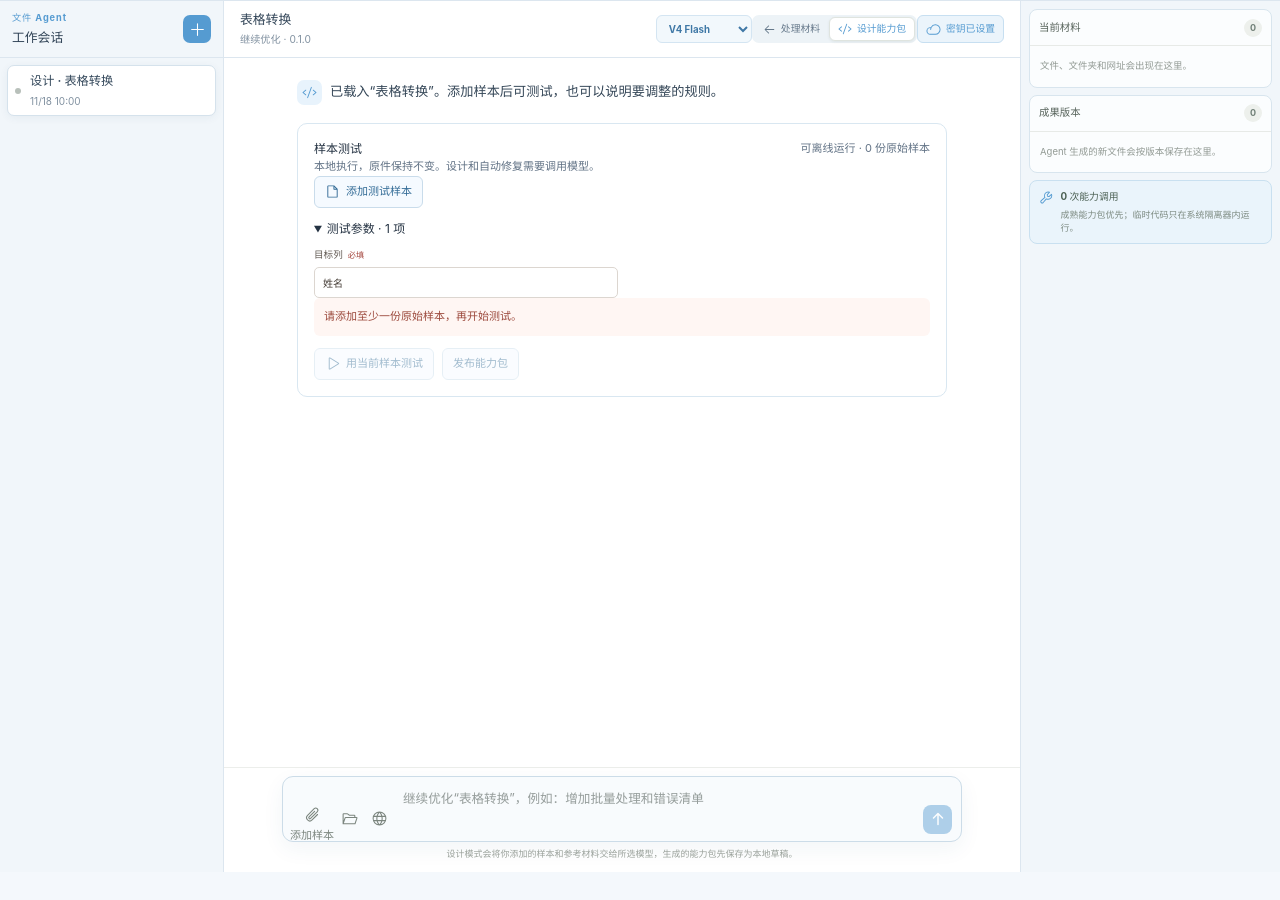
Scenario: design session lifecycle › tests current originals after design and preserves the passed result without saving again
The width and height of the screenshot is (1280, 900).
Expected: the element named "能力包样本测试" is shown, [297, 123, 947, 397]
Expected: the button named "新建设计会话" is enabled, [183, 15, 211, 43]
Click the button titled "添加文件" at (312, 818), box [290, 806, 334, 832]
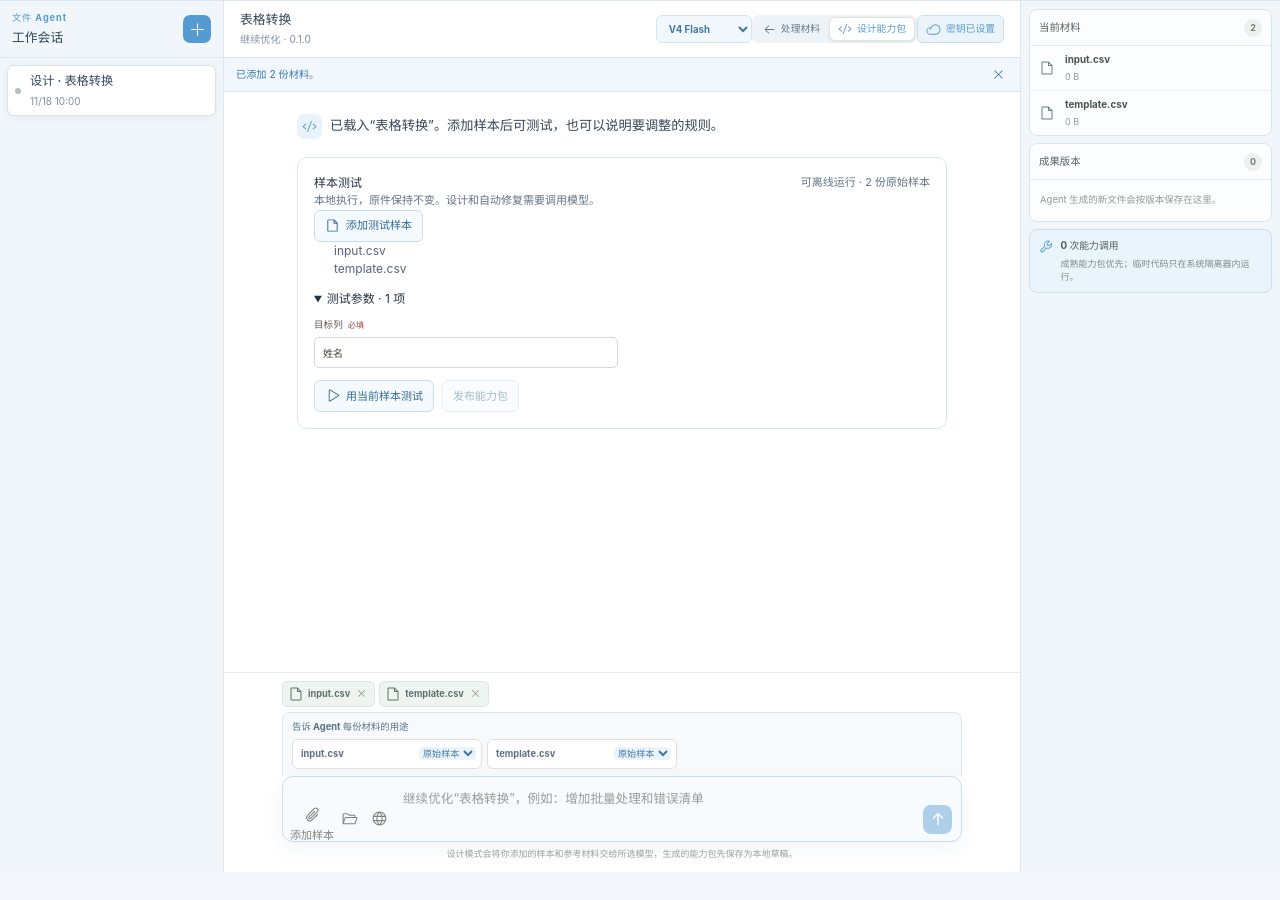
Expected: the dropdown labelled "input.csv" is shown, [419, 747, 476, 760]
Select "模板" in the dropdown labelled "template.csv" at (642, 754), box [614, 747, 671, 760]
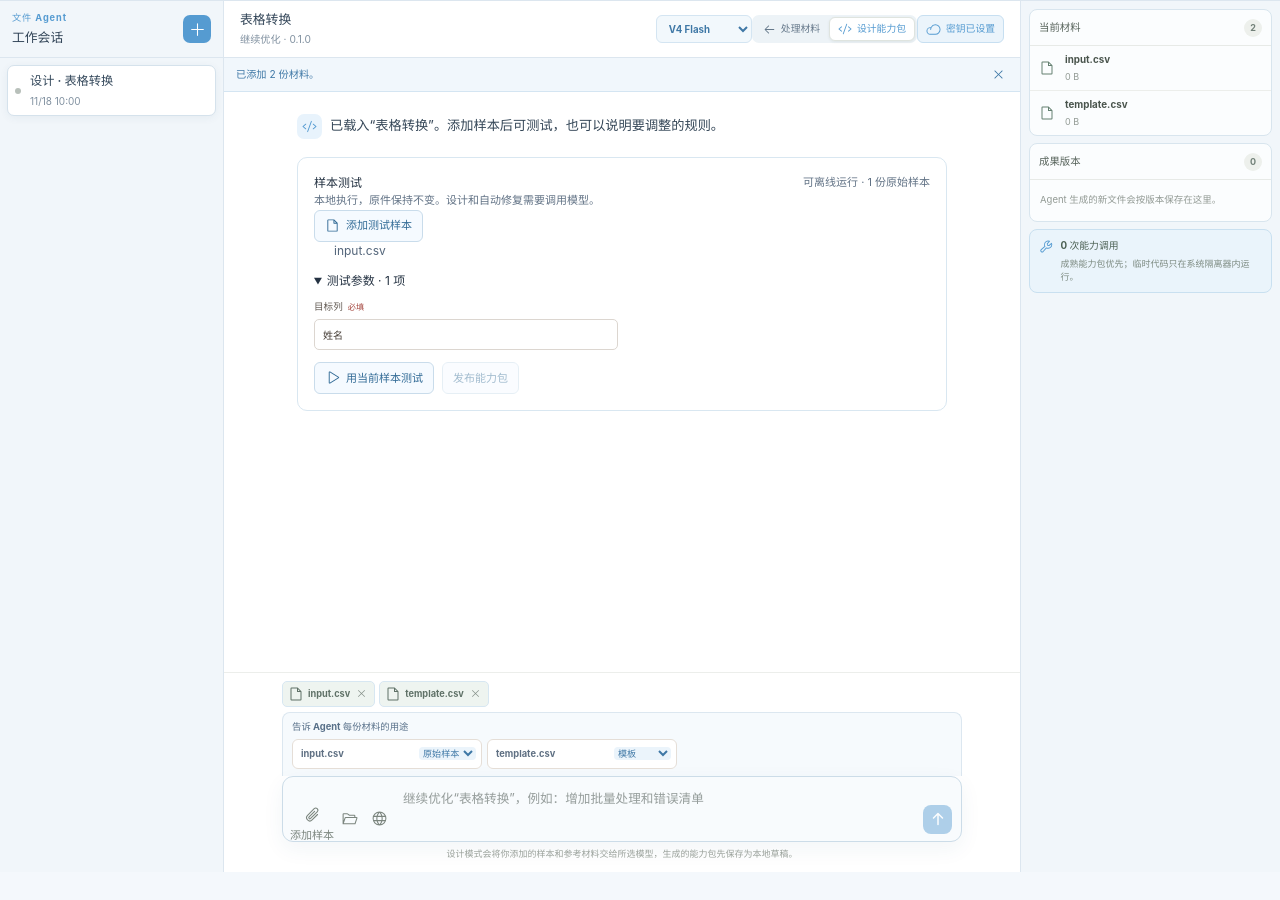
Replace the text in the field labelled "目标列必填" with "单位" at (466, 334), box [314, 319, 618, 350]
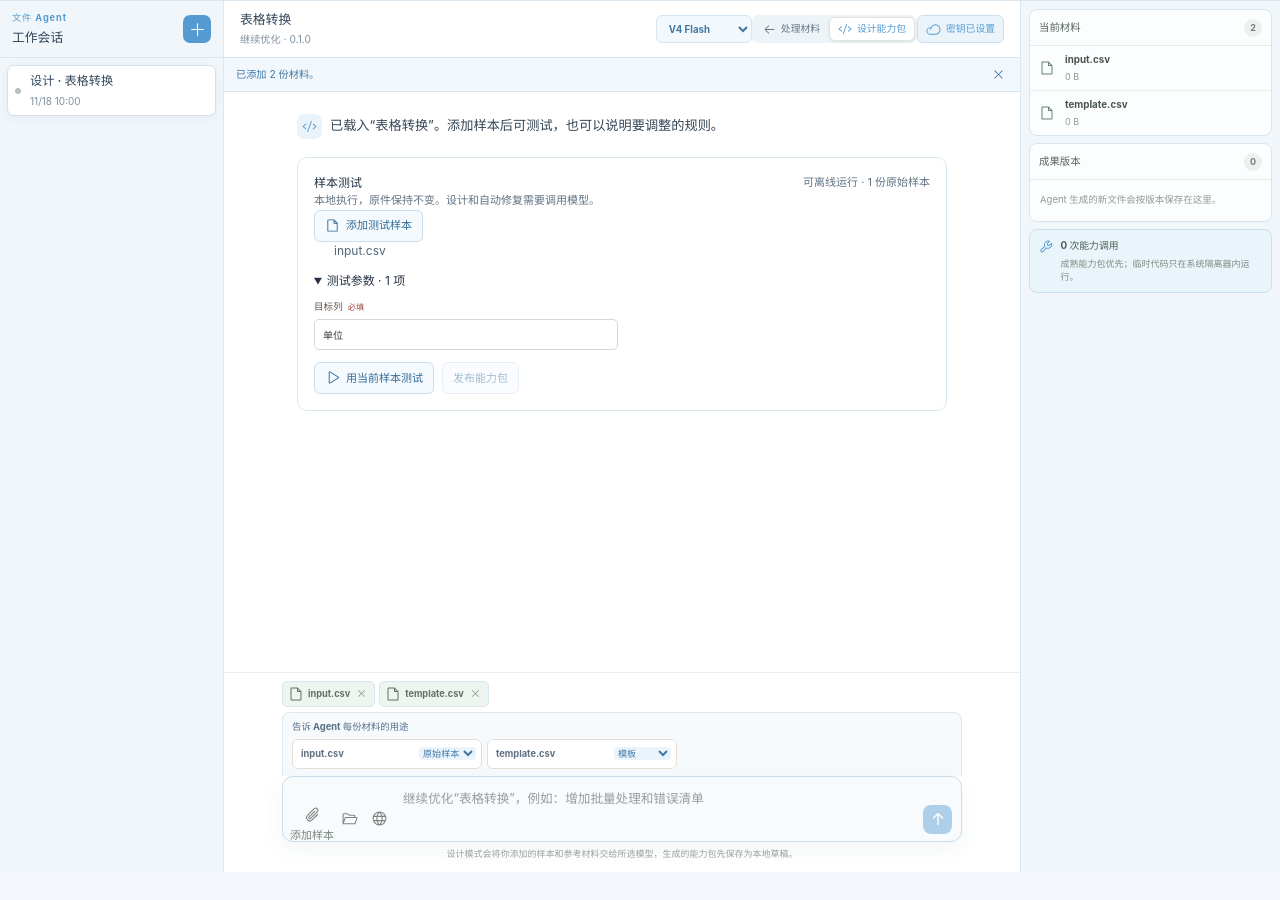
Type "按模板优化转换" into the text box at (658, 809), box [401, 784, 916, 834]
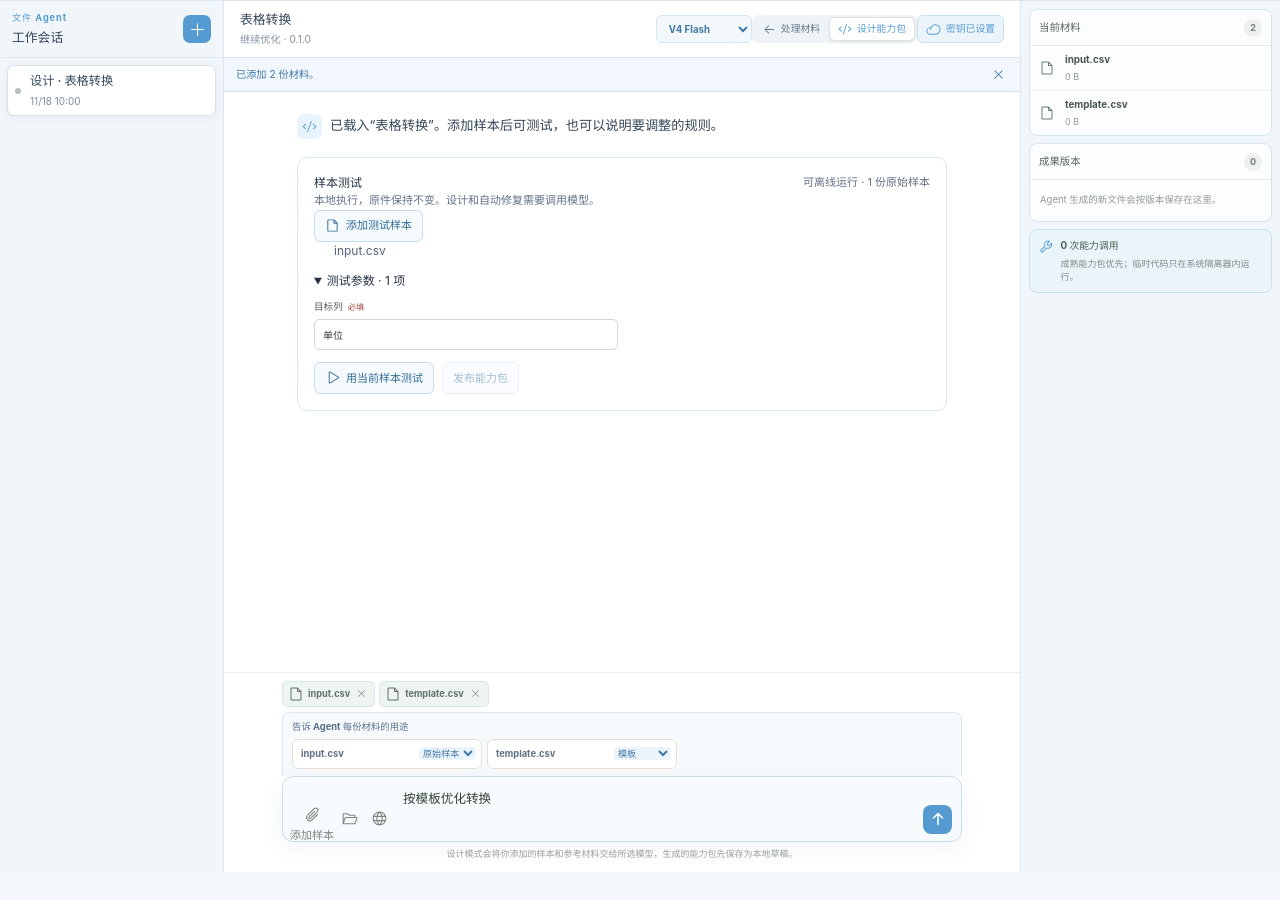
Expected: the button named "发送消息" is enabled
Click the button named "发送消息" at (938, 819), box [923, 804, 952, 834]
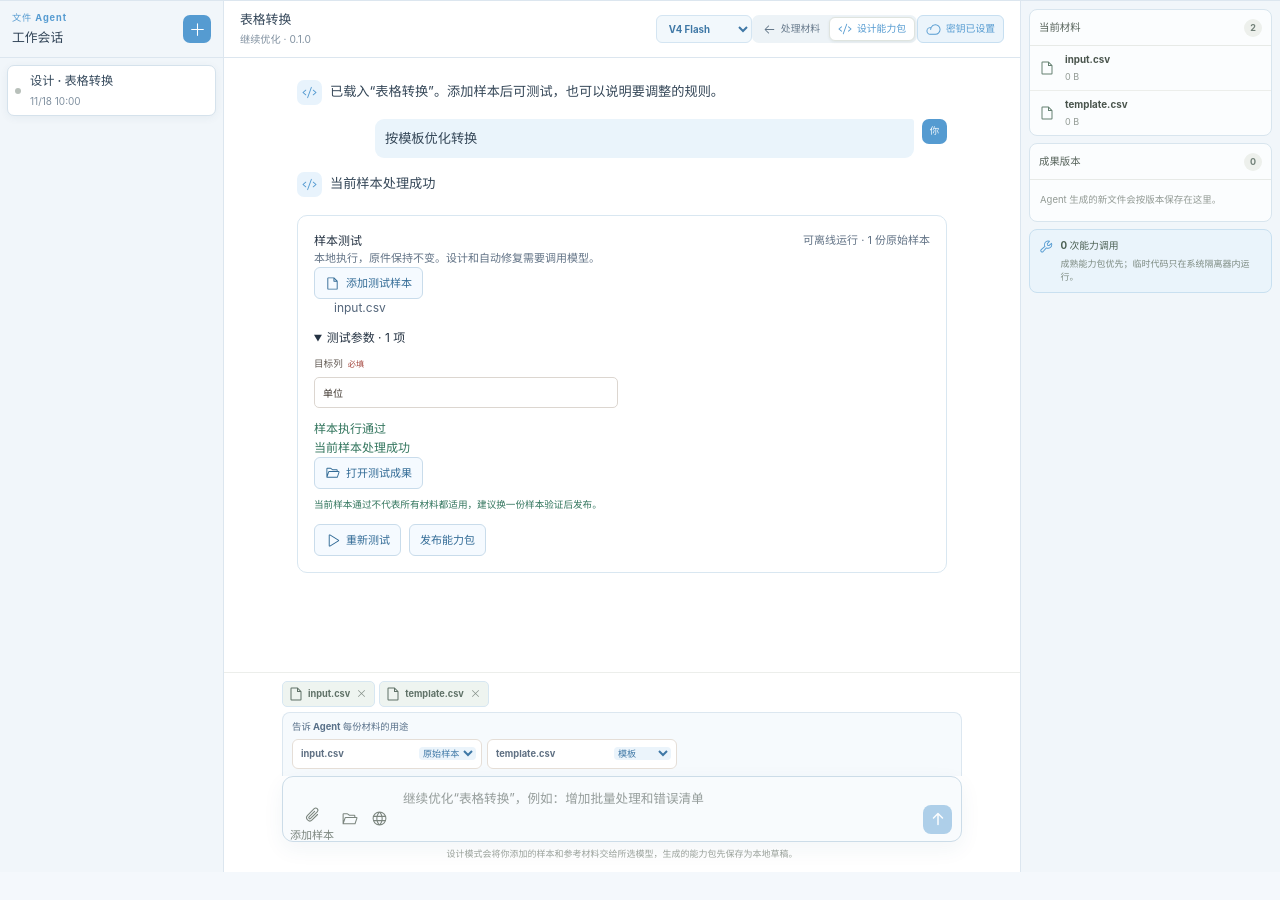
Expected: the button "添加测试样本" is shown, [314, 267, 423, 299]
Expected: the text "样本执行通过" is shown, [314, 421, 386, 436]
Expected: the button "发布能力包" is enabled, [409, 524, 486, 556]
